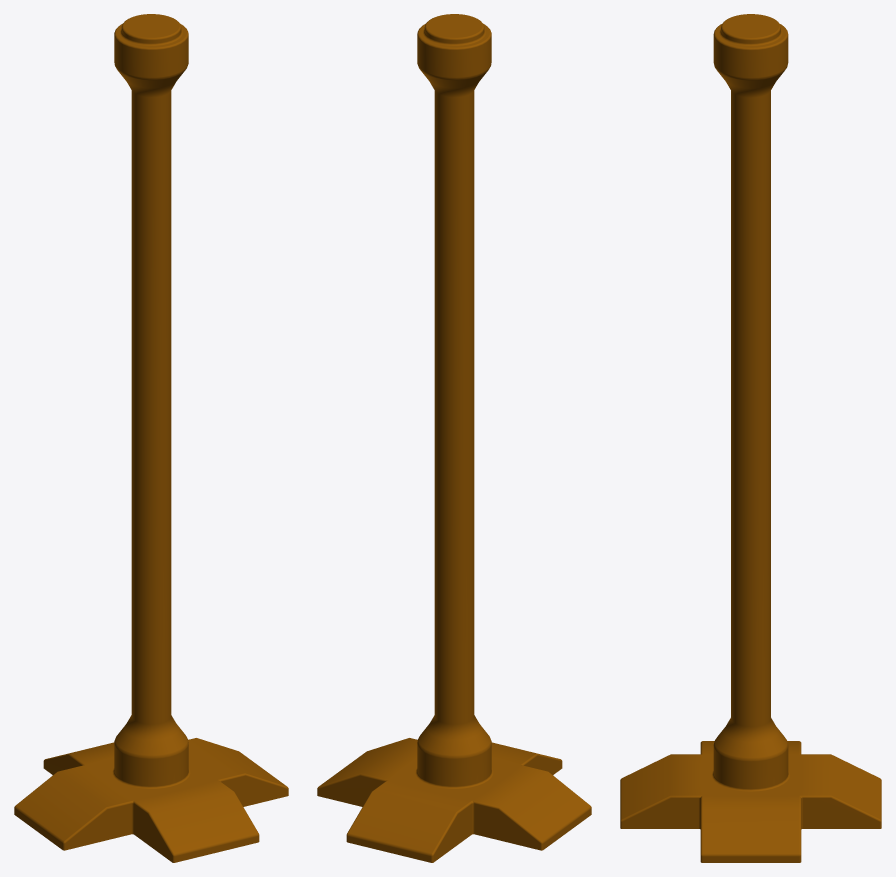
The model's file is Construction_Lamp_03.fbx.
3 views of the same model, side by side, from view 1: azimuth 30°, elevation 25°; view 2: azimuth 150°, elevation 25°; view 3: azimuth 270°, elevation 25° (orthographic).
Parts seen in each view (by area): view 1: Construction Lamp 03; view 2: Construction Lamp 03; view 3: Construction Lamp 03.
Boxes of the visible parts, x1,y1,x2,y2 form: Construction Lamp 03: [14, 14, 288, 862]; Construction Lamp 03: [317, 14, 591, 862]; Construction Lamp 03: [620, 14, 881, 862].
Size of the model in its own units: 52 by 171 by 52.
